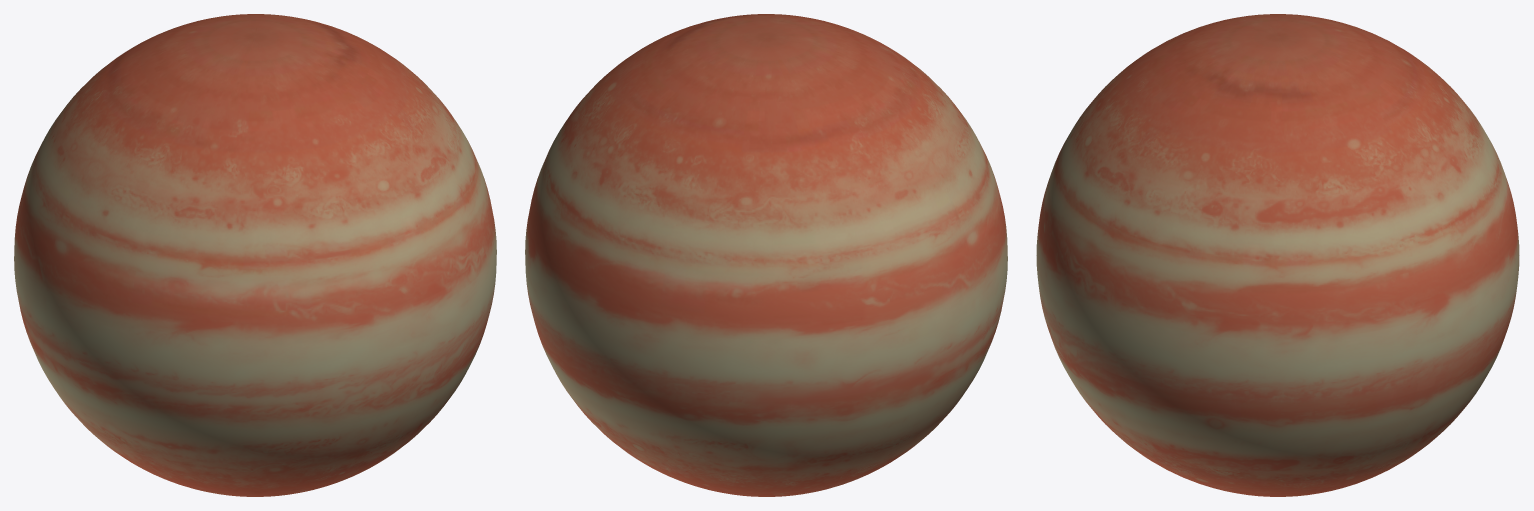
The picture shows the model from 3 angles, left to right: view 1: azimuth 30°, elevation 25°; view 2: azimuth 150°, elevation 25°; view 3: azimuth 270°, elevation 25°; orthographic projection.
Parts seen in each view (by area): view 1: HD_332231_b; view 2: HD_332231_b; view 3: HD_332231_b.
Part boxes in pixels (x1,y1,x2,y2): HD_332231_b: (14,14,496,496); HD_332231_b: (525,14,1007,496); HD_332231_b: (1036,14,1519,496).
Size of the model in its own units: 2 by 2 by 2.
Materials: 1 (1 with a texture image).
